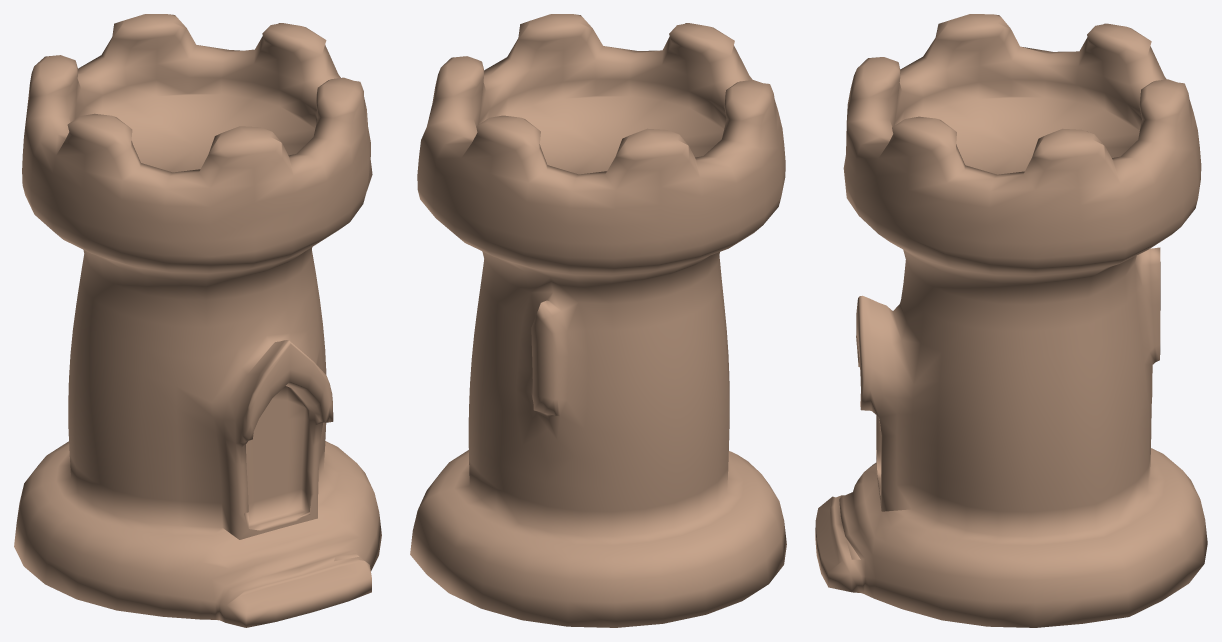
Rendered from Tower.FBX.
3 renders of one model, left to right at view 1: azimuth 30°, elevation 25°; view 2: azimuth 150°, elevation 25°; view 3: azimuth 270°, elevation 25°, orthographic.
Parts seen in each view (by area): view 1: Tower; view 2: Tower; view 3: Tower.
Part boxes in pixels (x1,y1,x2,y2): Tower: [14, 14, 381, 627]; Tower: [410, 14, 786, 627]; Tower: [815, 14, 1207, 627].
Bounding box in the file's own units: 66.32 × 93.25 × 70.16.
